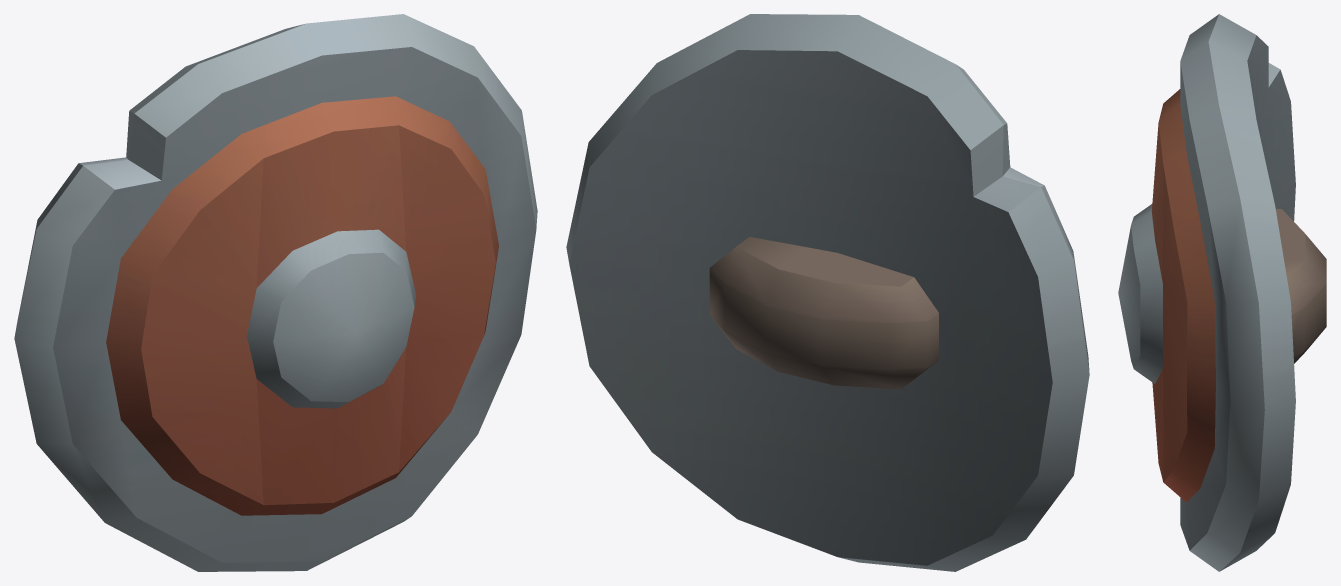
Rendered from shield.glb.
3 views of the same model, side by side, from view 1: azimuth 30°, elevation 25°; view 2: azimuth 150°, elevation 25°; view 3: azimuth 270°, elevation 25° (orthographic). The views are drawn at different scales.
Visible parts, largest first — view 1: shield_round; view 2: shield_round; view 3: shield_round.
Boxes of the visible parts, bbox=[...] form: shield_round: bbox=[14, 14, 537, 571]; shield_round: bbox=[566, 14, 1089, 571]; shield_round: bbox=[1118, 14, 1326, 571].
Bounding box in the file's own units: 0.7 × 0.7 × 0.2633.
1 material, 1 textured.
